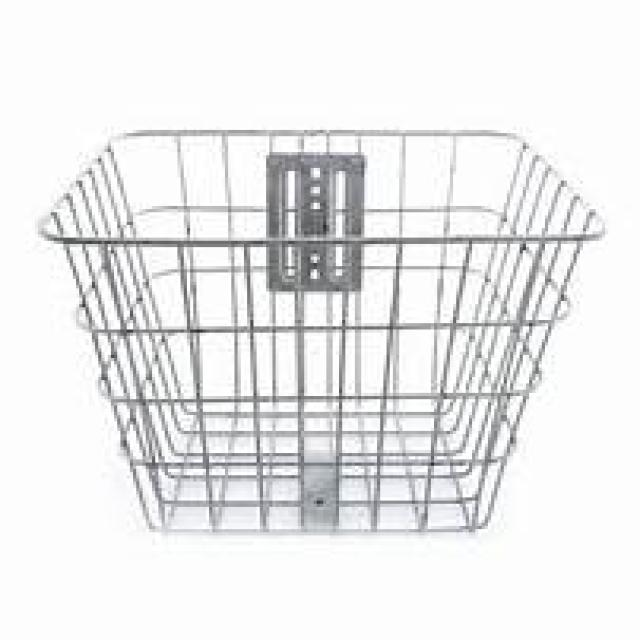basket: (32, 130, 606, 532)
